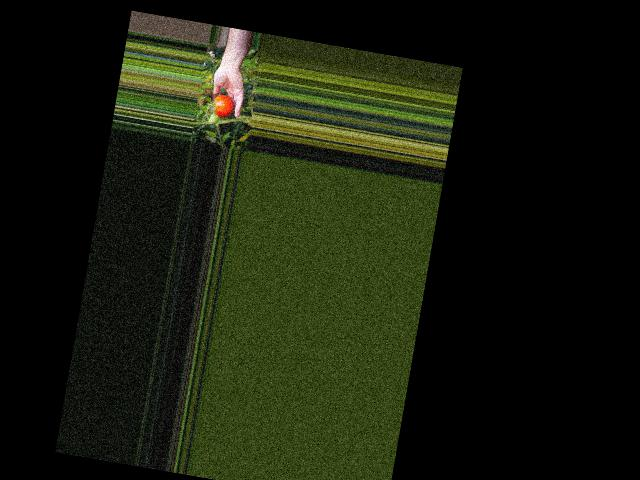tomato: (211, 92, 235, 119)
